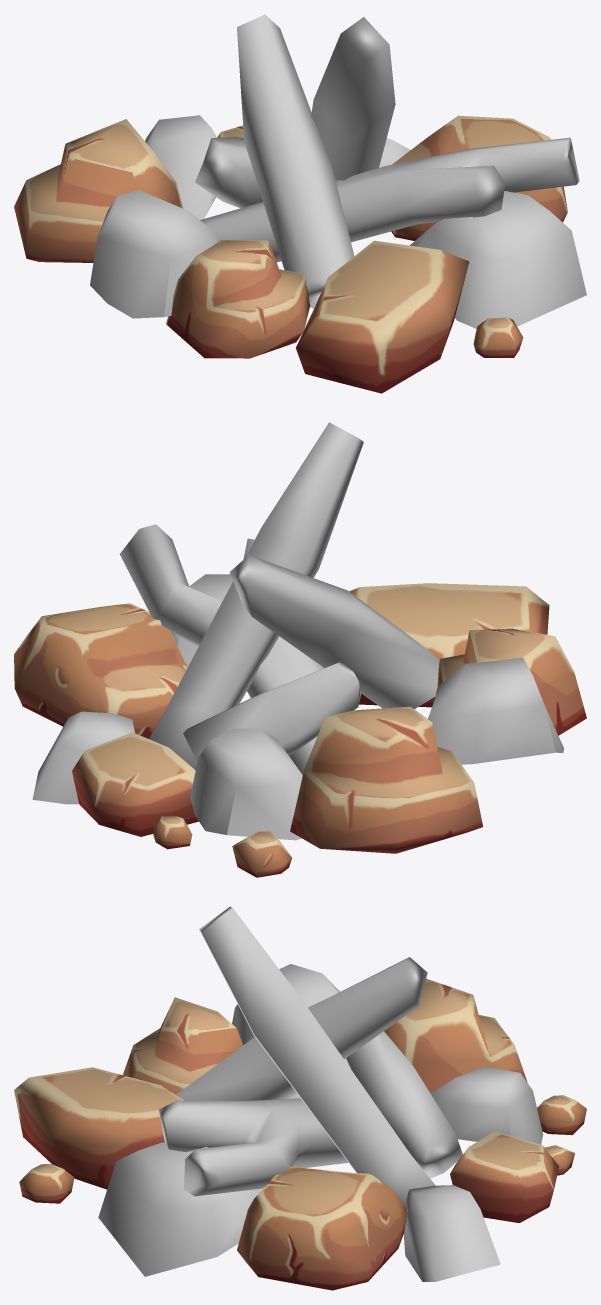
Rendered from campfire_stone.fbx.
The picture shows the model from 3 angles, top to bottom: view 1: azimuth 30°, elevation 25°; view 2: azimuth 150°, elevation 25°; view 3: azimuth 270°, elevation 25°; orthographic projection. The views are drawn at different scales.
Visible parts, largest first — view 1: polySurface41; view 2: polySurface41; view 3: polySurface41.
Part boxes in pixels (left/top/right/bottom): polySurface41: left=14, top=14, right=586, bottom=393; polySurface41: left=14, top=422, right=586, bottom=877; polySurface41: left=14, top=906, right=586, bottom=1290.
Bounding box in the file's own units: 259 × 155 × 268.
